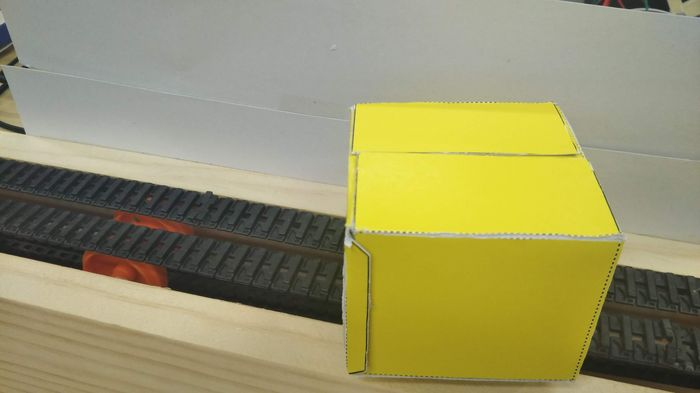box4: (337, 91, 623, 385)
